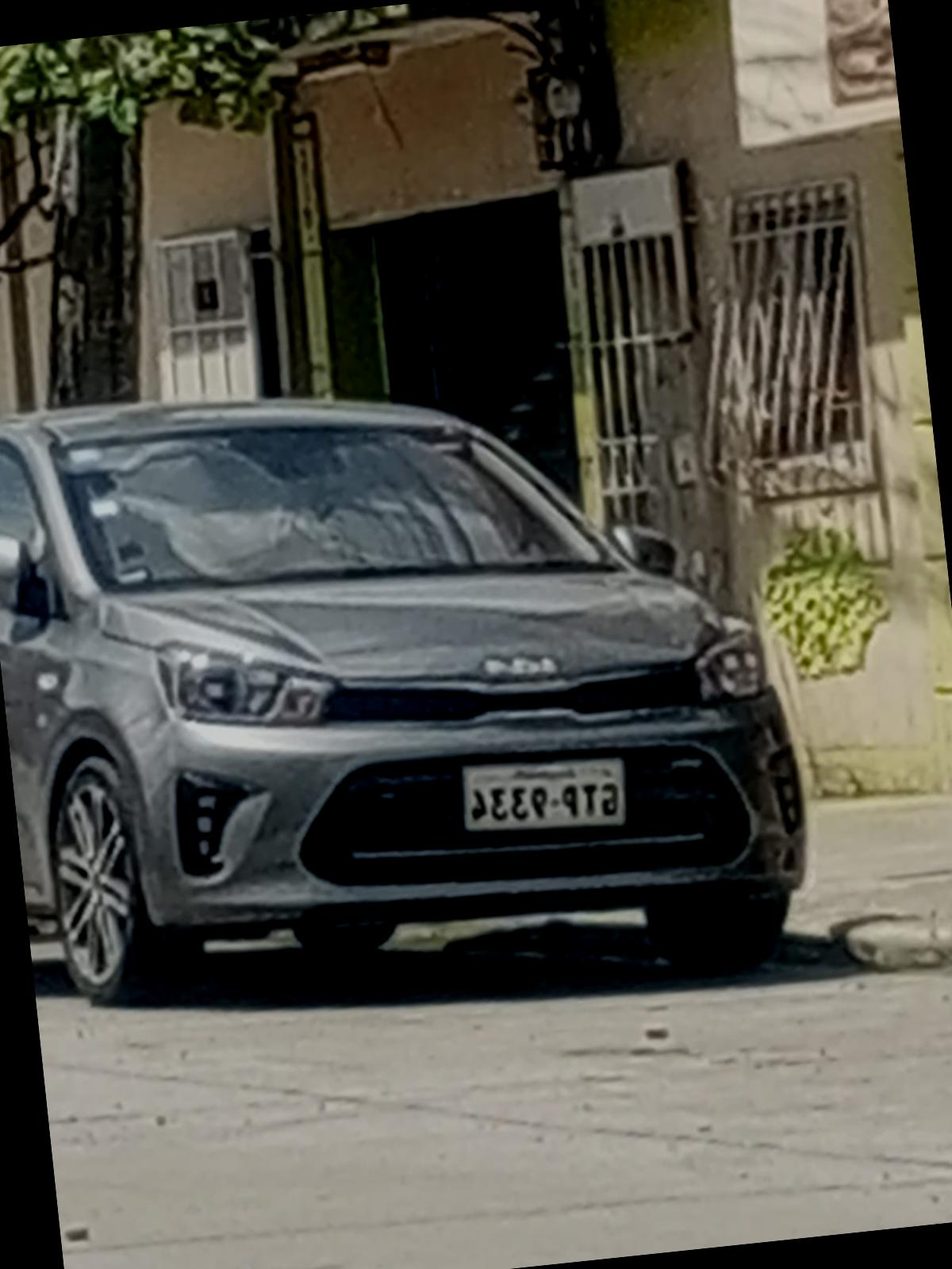license_plate: (457, 749, 632, 843)
